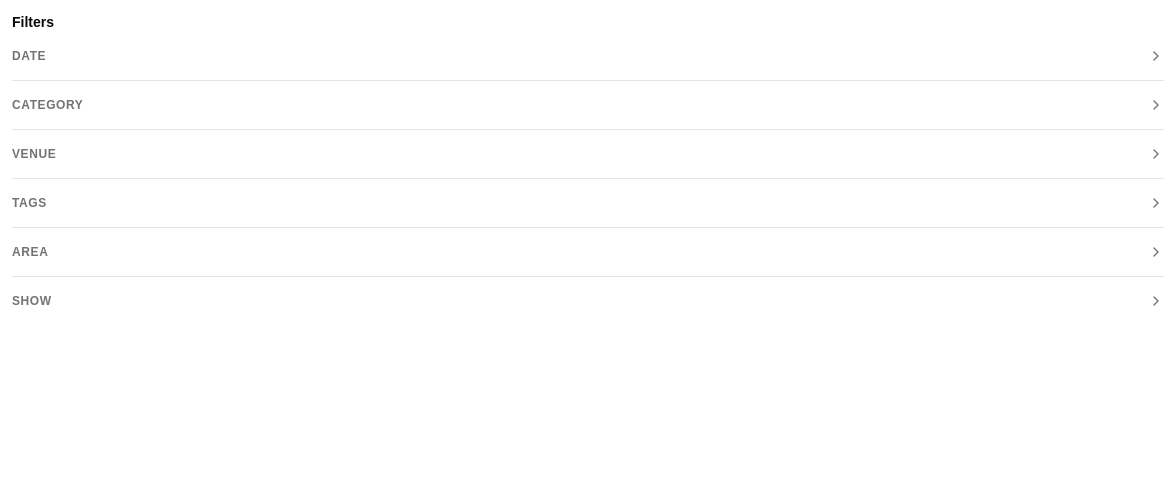
Test: tag long tail › caps the list and offers the rest
The width and height of the screenshot is (1176, 495).
Click the button "Tags": {"x": 29, "y": 203} left=12, top=191, right=1164, bottom=215
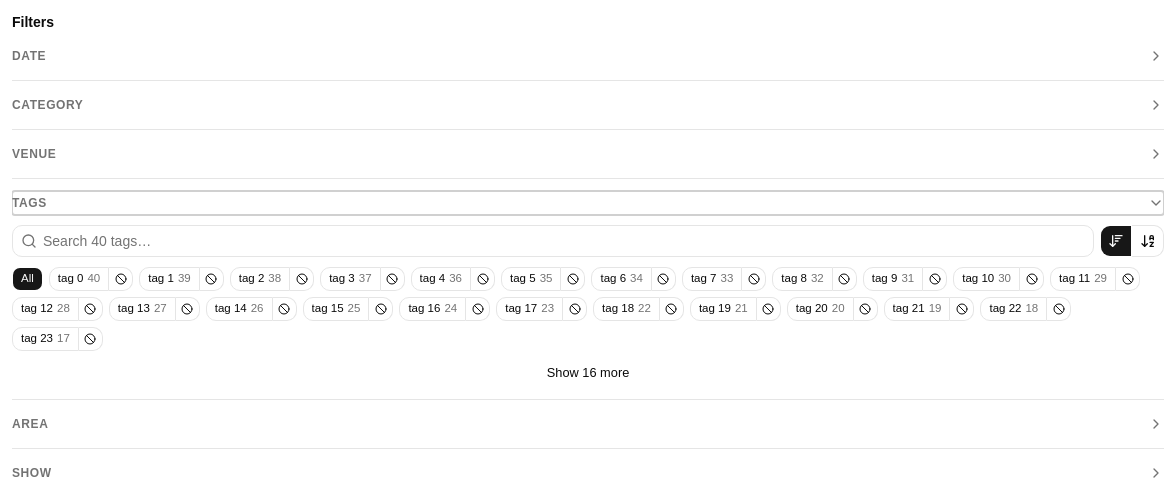
expect the button "Show 16 more" is shown: met, box left=12, top=359, right=1164, bottom=387
